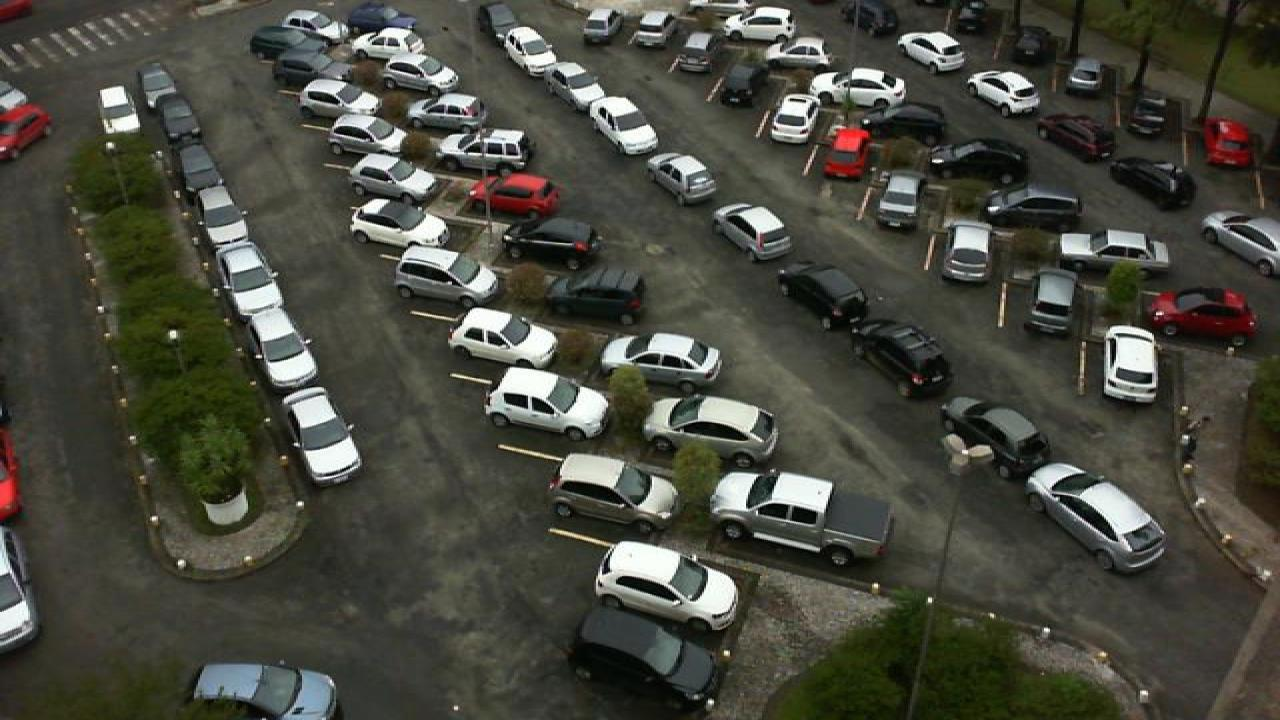Car: (708, 469, 896, 572), (568, 603, 726, 708), (1026, 462, 1168, 574), (592, 541, 740, 633), (550, 453, 684, 538), (640, 392, 782, 469), (938, 395, 1054, 483), (480, 366, 614, 442), (178, 661, 346, 720), (854, 316, 960, 400), (276, 387, 364, 486), (596, 331, 724, 396), (446, 307, 560, 374), (392, 243, 506, 306), (778, 260, 872, 332), (244, 303, 322, 388), (548, 266, 650, 328), (500, 217, 608, 272), (1146, 287, 1258, 339), (1056, 227, 1174, 276), (348, 198, 450, 253), (984, 180, 1084, 235), (1200, 209, 1280, 276), (346, 152, 442, 207), (710, 202, 794, 264), (928, 137, 1032, 187), (218, 240, 286, 316), (1106, 154, 1198, 209), (1098, 325, 1160, 404), (468, 171, 562, 221), (588, 96, 662, 158), (808, 68, 906, 114), (438, 126, 532, 172), (1034, 112, 1114, 166), (324, 112, 410, 158), (864, 103, 950, 148), (646, 153, 720, 205), (964, 69, 1042, 118), (298, 76, 378, 122), (1030, 268, 1082, 336), (818, 122, 874, 185), (554, 66, 618, 120), (940, 221, 994, 284), (408, 92, 490, 132), (1198, 116, 1258, 170), (874, 169, 924, 233), (896, 30, 968, 74), (0, 103, 54, 161), (380, 54, 460, 93), (200, 186, 252, 244), (768, 92, 820, 148), (720, 6, 798, 42), (268, 51, 336, 92), (342, 0, 418, 36), (246, 25, 320, 61), (350, 27, 430, 59), (1120, 89, 1170, 139), (498, 24, 554, 68), (180, 137, 226, 190), (98, 83, 144, 136), (526, 48, 584, 90), (718, 61, 768, 109), (764, 37, 832, 72), (668, 30, 722, 74), (840, 0, 902, 38), (276, 8, 350, 38), (136, 62, 186, 106), (1004, 22, 1054, 66), (158, 96, 204, 142), (472, 0, 520, 44), (1066, 56, 1108, 102), (632, 9, 680, 48), (580, 6, 626, 46), (948, 0, 994, 37)
